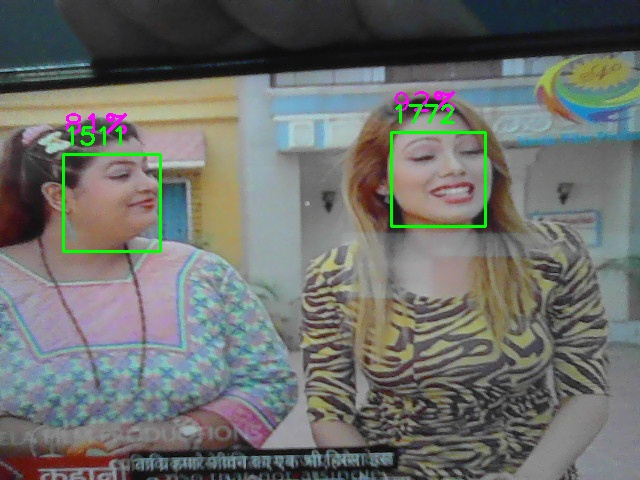fake: (63, 154, 161, 252), (391, 132, 486, 227)
